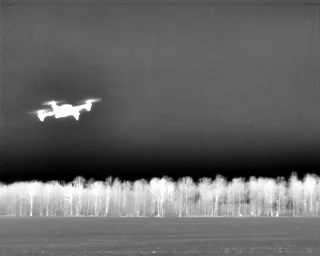DRONE: (25, 93, 105, 129)
